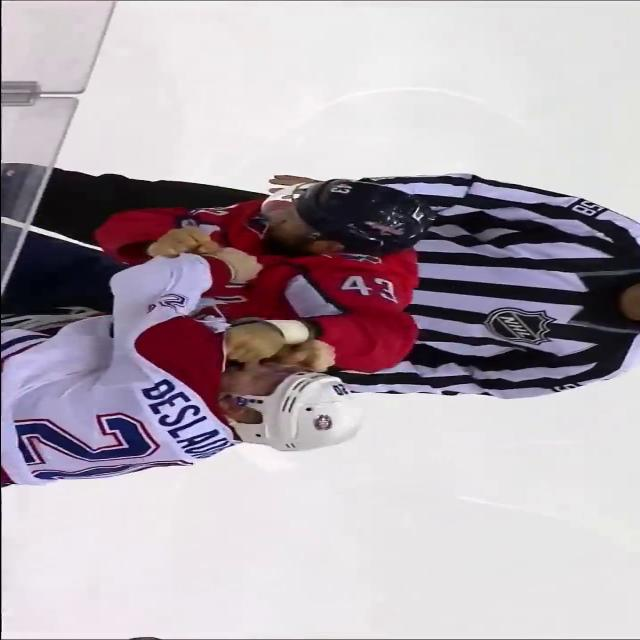Violence: (0, 178, 431, 490)
